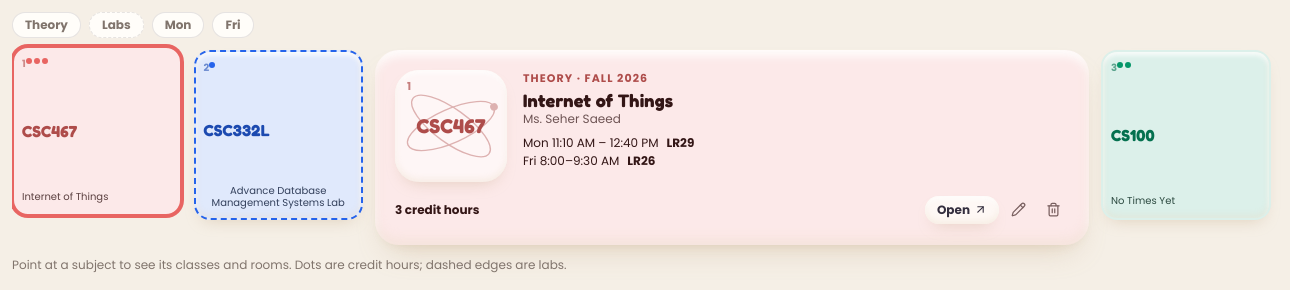
Test: a subject without class times says so
Hover over the button "3 CS100 No Times Yet" at (1186, 135), box left=1101, top=50, right=1270, bottom=220
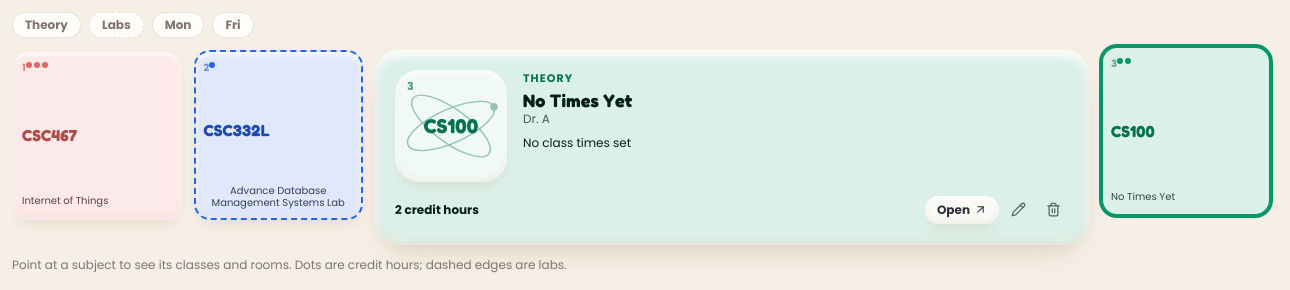
Expected: the text "No class times set" is shown, left=523, top=134, right=631, bottom=151
